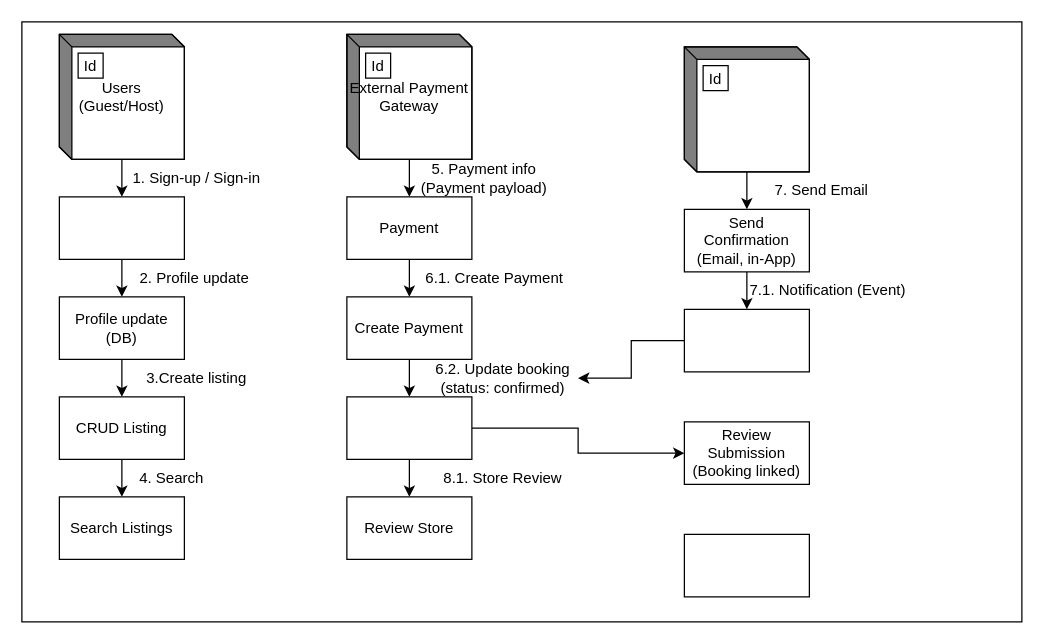
Some shapes in this 1044 by 644 pixel diagram are drawn without their labels. The shapes that lost their labels are listed below. From the top down, each one's centre as x and y in pixels, then its label:
At (746,109): "Email service".
At (121,227): "Auth & Registration (JWT, OAuth,DB)".
At (746,340): "Notification (Email/Push)".
At (409,427): "Update Booking".
At (746,565): "Admin Operations".
